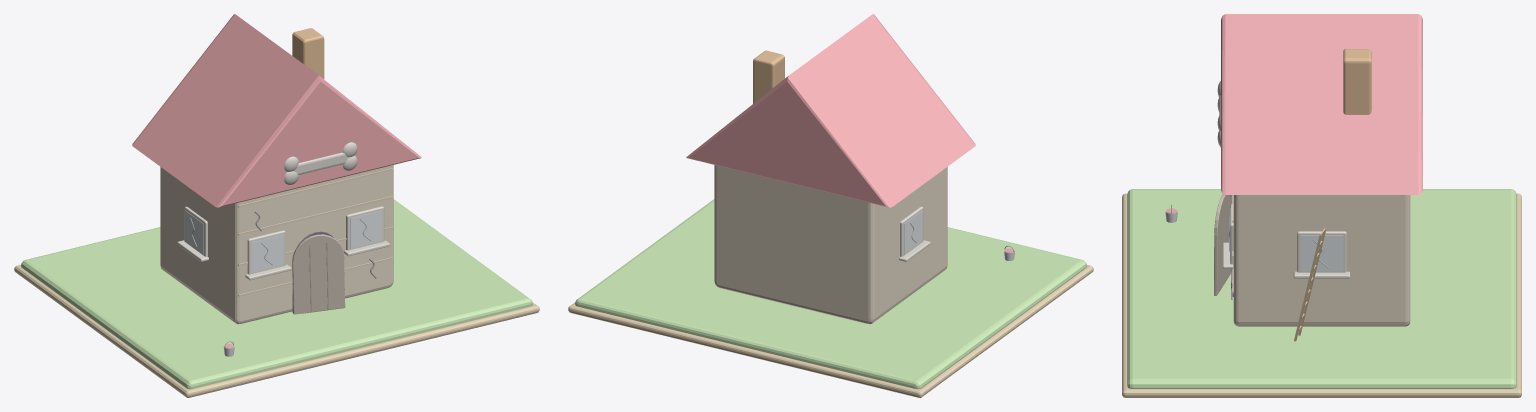
The model's file is building_pets_L03.glb.
The picture shows the model from 3 angles, left to right: view 1: azimuth 30°, elevation 25°; view 2: azimuth 150°, elevation 25°; view 3: azimuth 270°, elevation 25°; orthographic projection. The views are drawn at different scales.
Parts seen in each view (by area): view 1: pets_L3; view 2: pets_L3; view 3: pets_L3.
Boxes of the visible parts, <box> form: pets_L3: <box>14,14,539,397</box>; pets_L3: <box>568,14,1093,397</box>; pets_L3: <box>1122,14,1521,397</box>.
Size of the model in its own units: 26.61 by 17.82 by 22.6.
